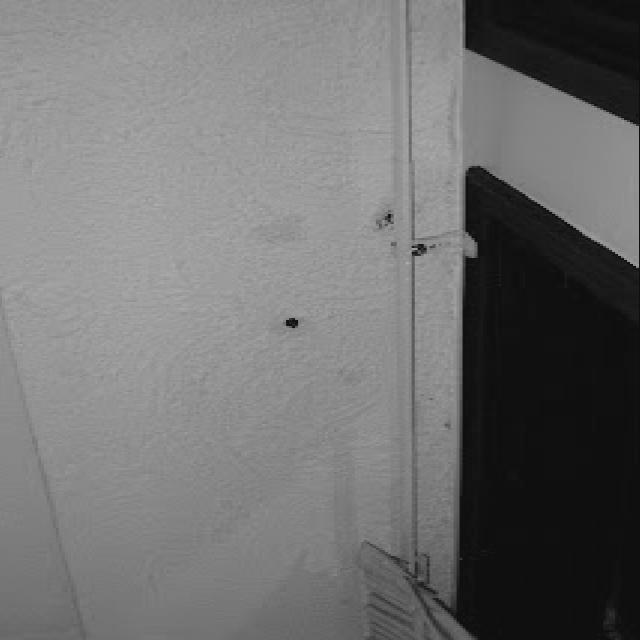pin holes: (272, 316, 305, 342)
